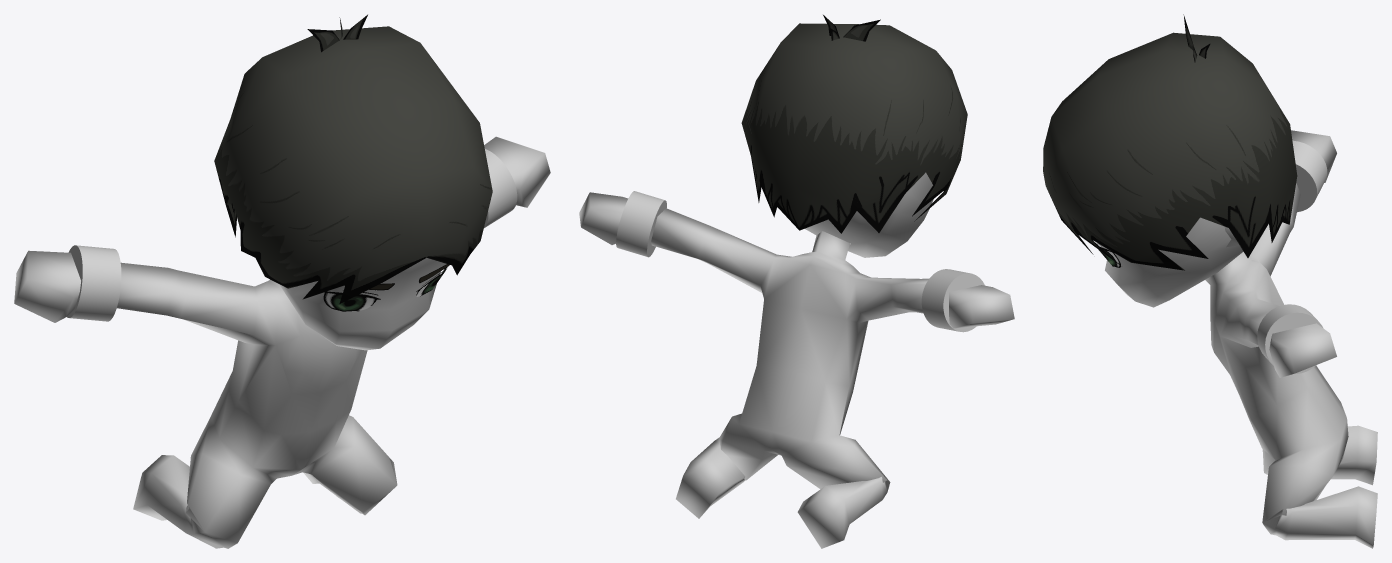
Rendered from eren.fbx.
3 views of the same model, side by side, from view 1: azimuth 30°, elevation 25°; view 2: azimuth 150°, elevation 25°; view 3: azimuth 270°, elevation 25° (orthographic). The views are drawn at different scales.
Parts seen in each view (by area): view 1: hair, boby, Head and hands, handcuffs, eye; view 2: boby, hair, Head and hands, handcuffs; view 3: hair, boby, Head and hands, handcuffs.
Part boxes in pixels (x1,y1,x2,y2): hair: (214,14,492,303); boby: (117,262,397,548); Head and hands: (14,136,550,350); handcuffs: (67,149,517,321); eye: (323,264,449,311); boby: (651,208,928,548); hair: (741,15,967,233); Head and hands: (579,172,1014,328); handcuffs: (616,191,984,332); hair: (1043,14,1297,270); boby: (1205,183,1377,548); Head and hands: (1097,130,1336,377); handcuffs: (1257,140,1327,373).
Size of the model in its own units: 55.59 by 55.74 by 34.76.
